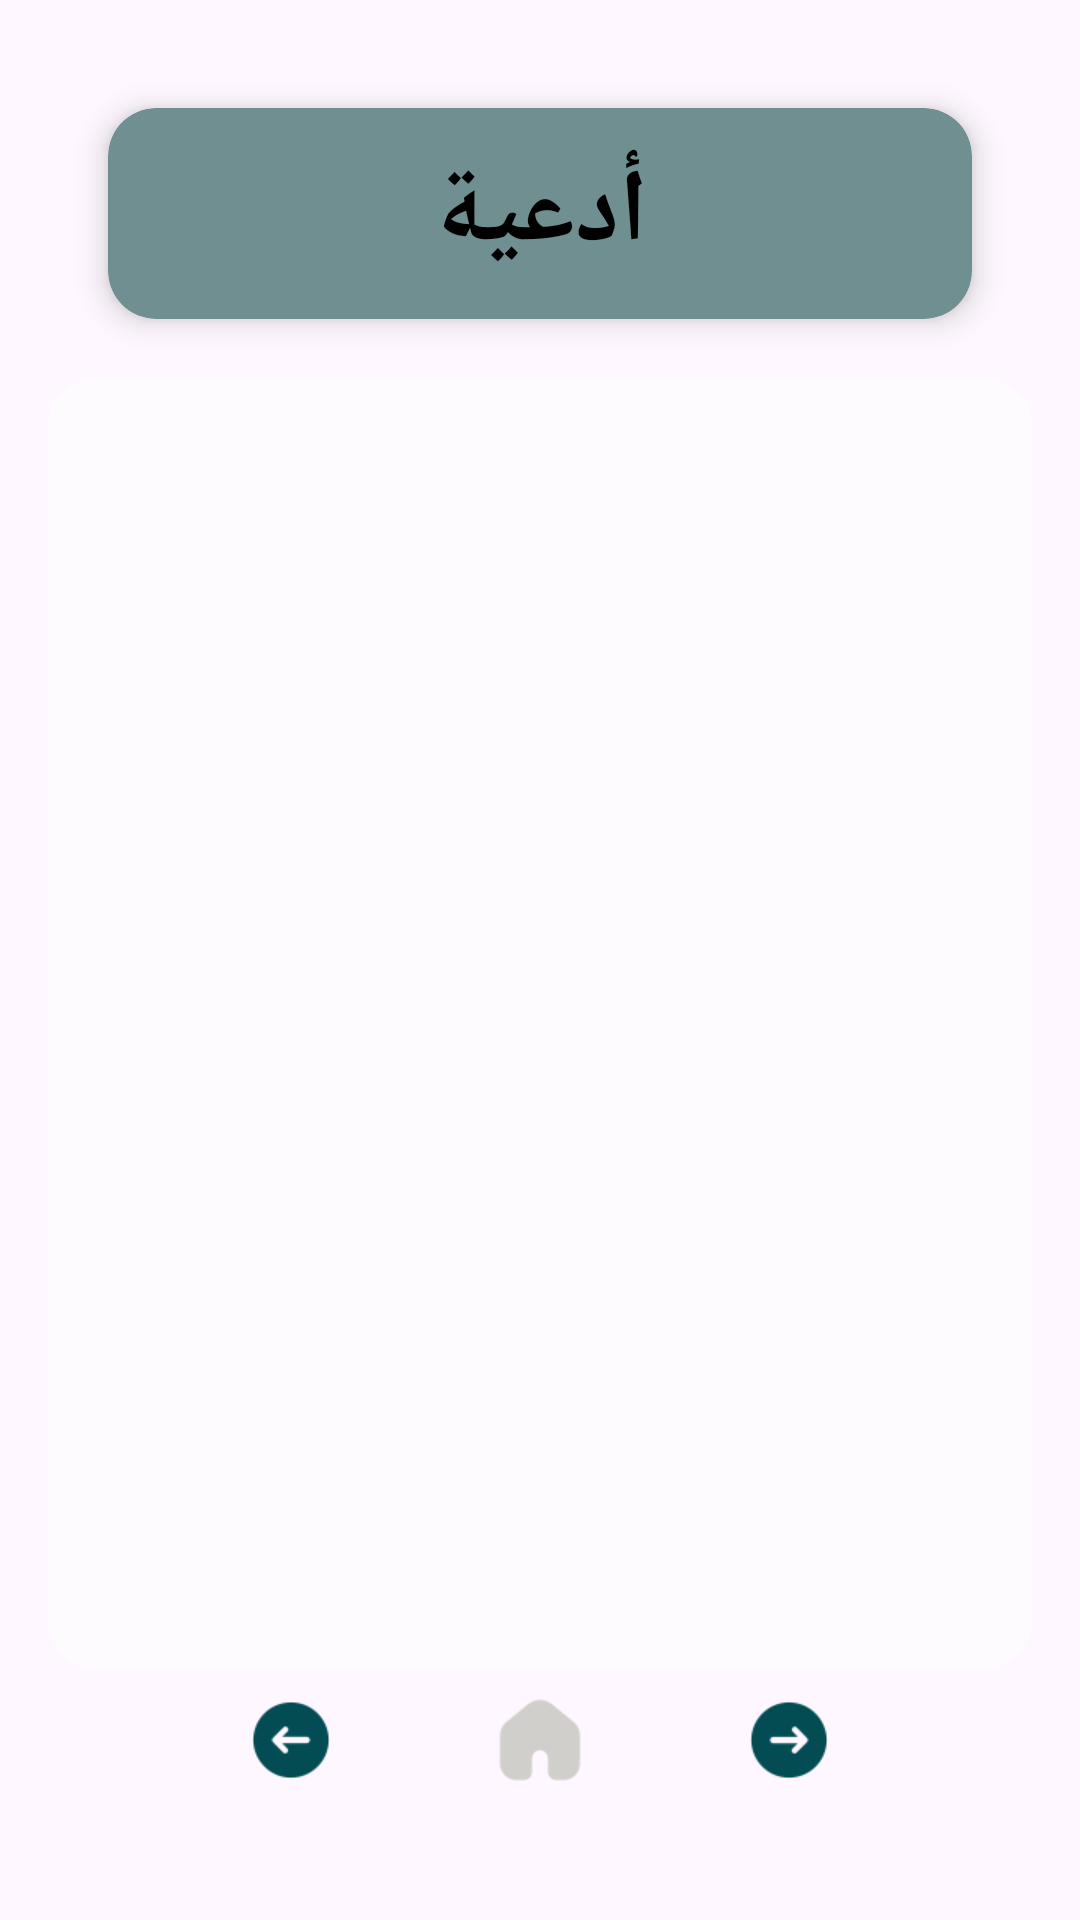

Icons on this 1080x1920 Android screen, each with the point to tap as point (x, y):
Home: point (540, 1740)
Next: point (789, 1740)
Previous: point (291, 1740)
